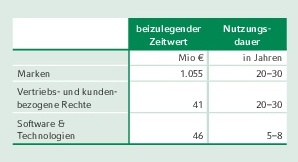table: (0, 0, 298, 162)
